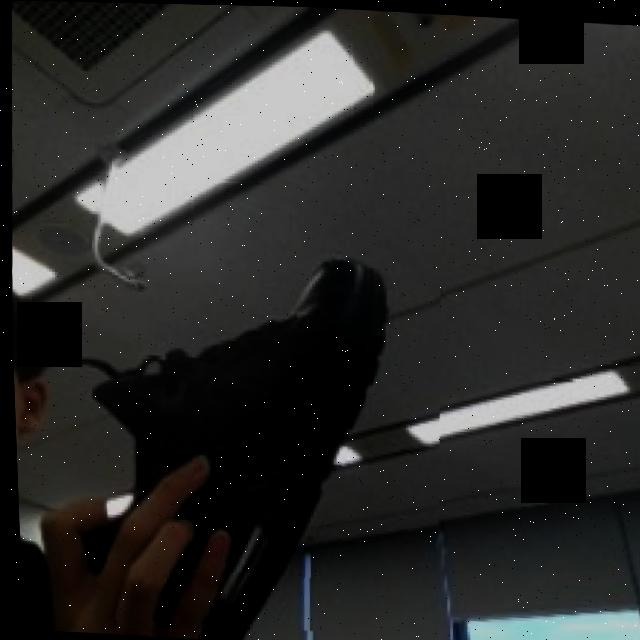shoe: (91, 225, 449, 636)
